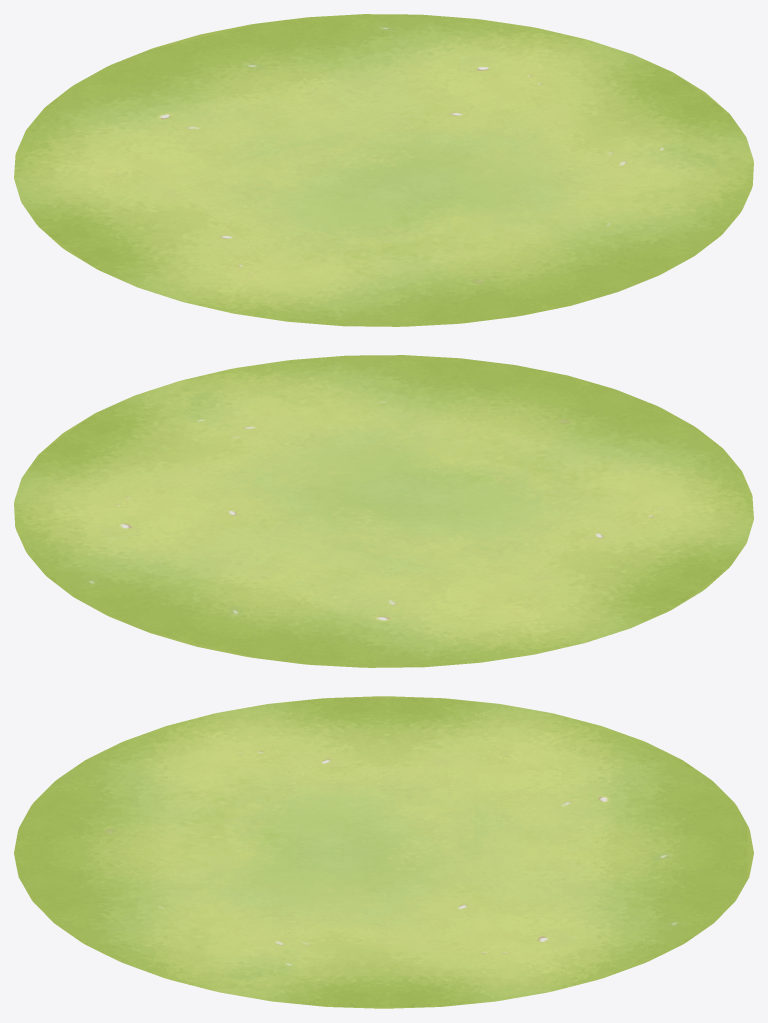
The model's file is standardterrain_4.FBX.
3 views of the same model, one above another, from view 1: azimuth 30°, elevation 25°; view 2: azimuth 150°, elevation 25°; view 3: azimuth 270°, elevation 25° (orthographic).
Visible parts, largest first — view 1: 1, 2; view 2: 1, 2; view 3: 1, 2.
Boxes of the visible parts, x1=… form: 1: x1=23, y1=18, x2=744, y2=322; 2: x1=14, y1=14, x2=753, y2=326; 1: x1=23, y1=359, x2=744, y2=663; 2: x1=14, y1=355, x2=753, y2=667; 1: x1=40, y1=707, x2=727, y2=997; 2: x1=14, y1=696, x2=753, y2=1008.
Bounding box in the file's own units: 8.96 × 8.65e-07 × 8.96.
1 material, 1 textured.
